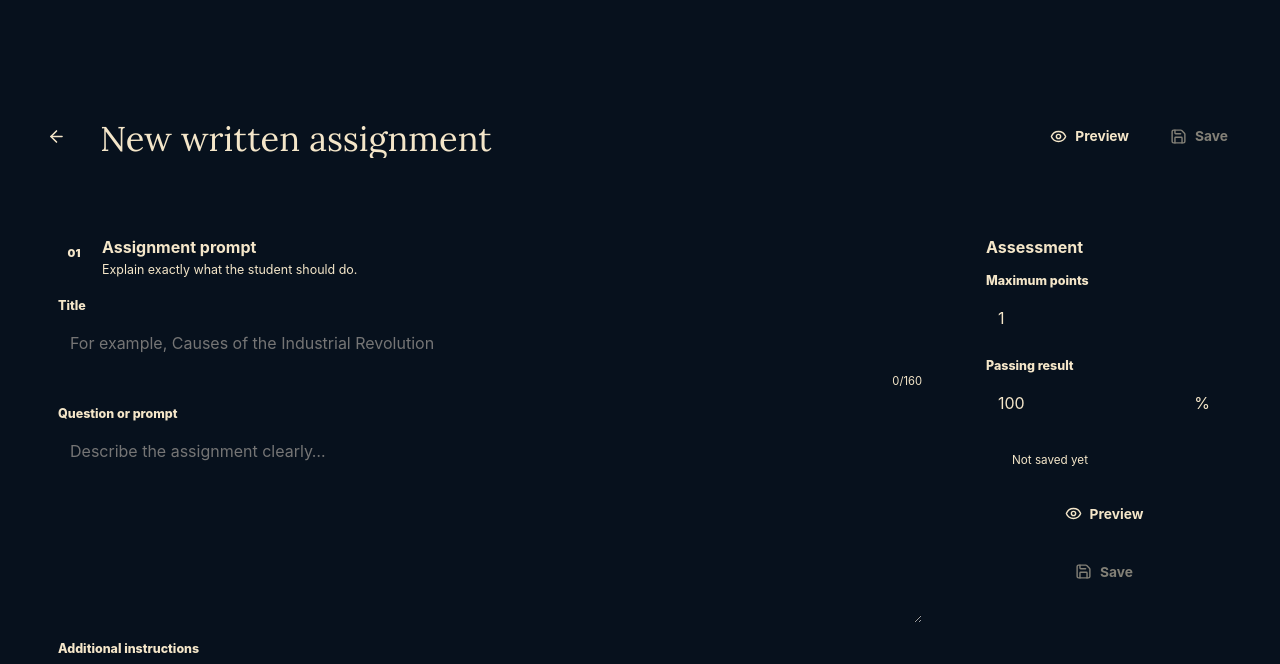
Test: teacher assignment workspace › creates the complete written draft only after explicit save
In the field labelled "Title": (490, 343) [58,320,922,367], type "Industrial Revolution"
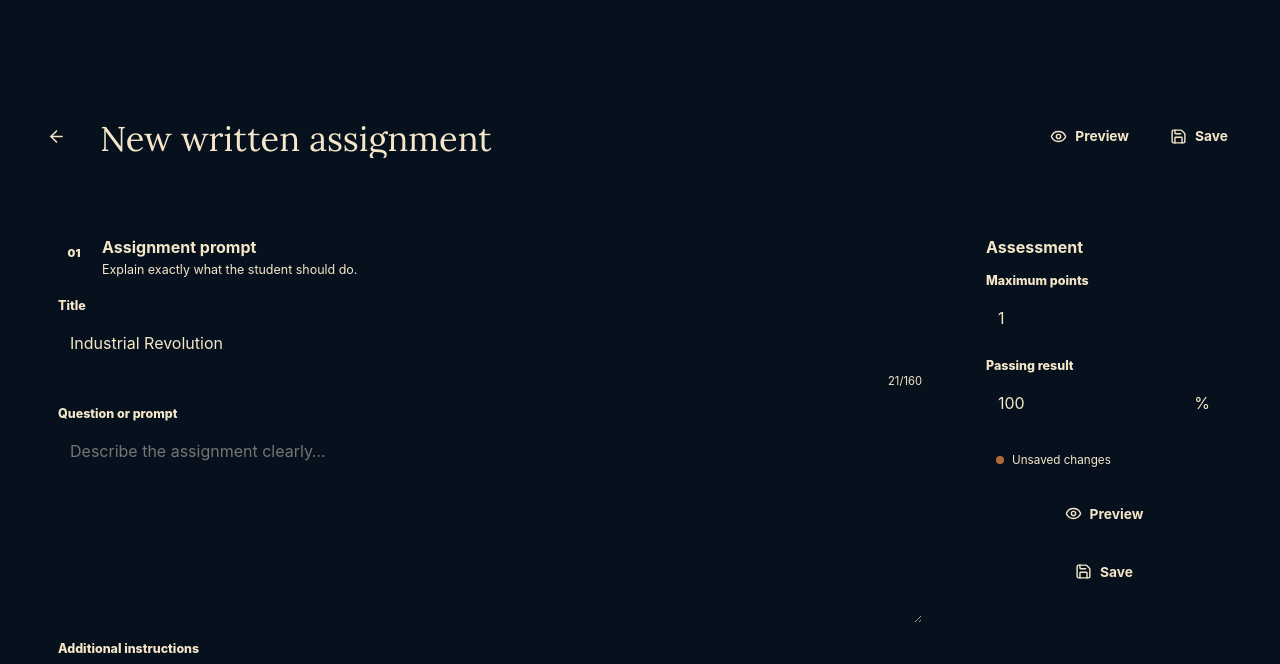
In the text box labelled "Question or prompt": (490, 525) [58,428,922,623], type "Explain two important causes."
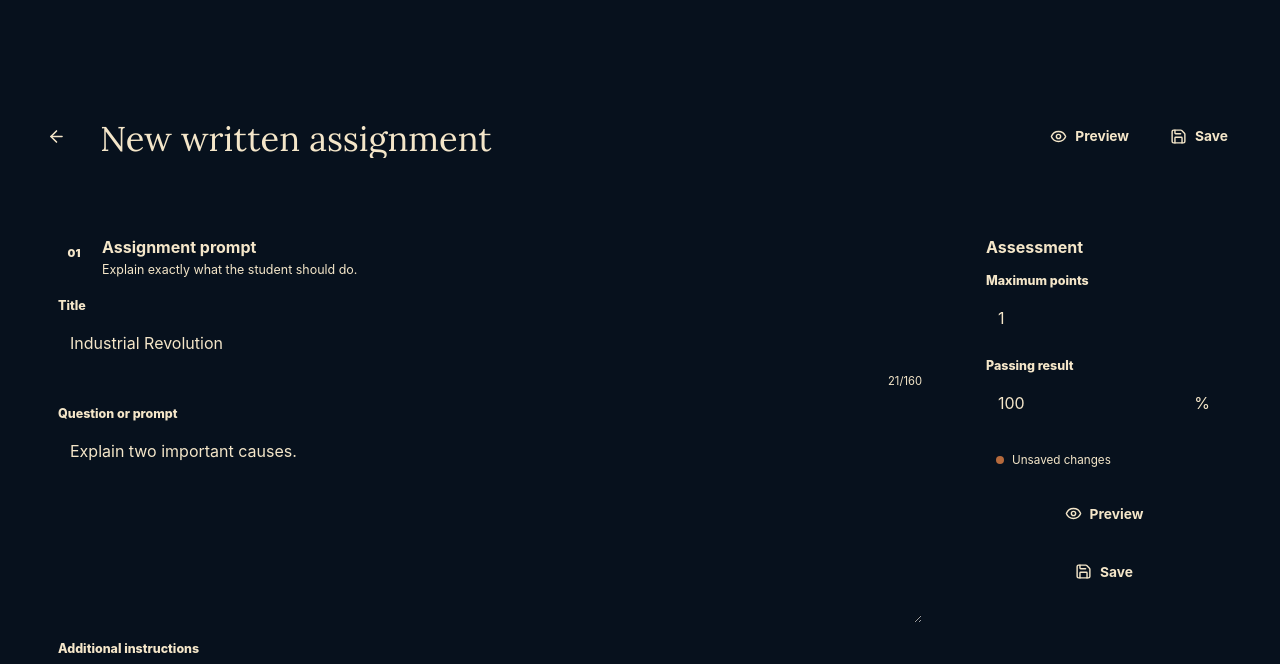
Click the button "Save" in the row of "New written assignment": (1199, 136) [1154,115,1244,157]
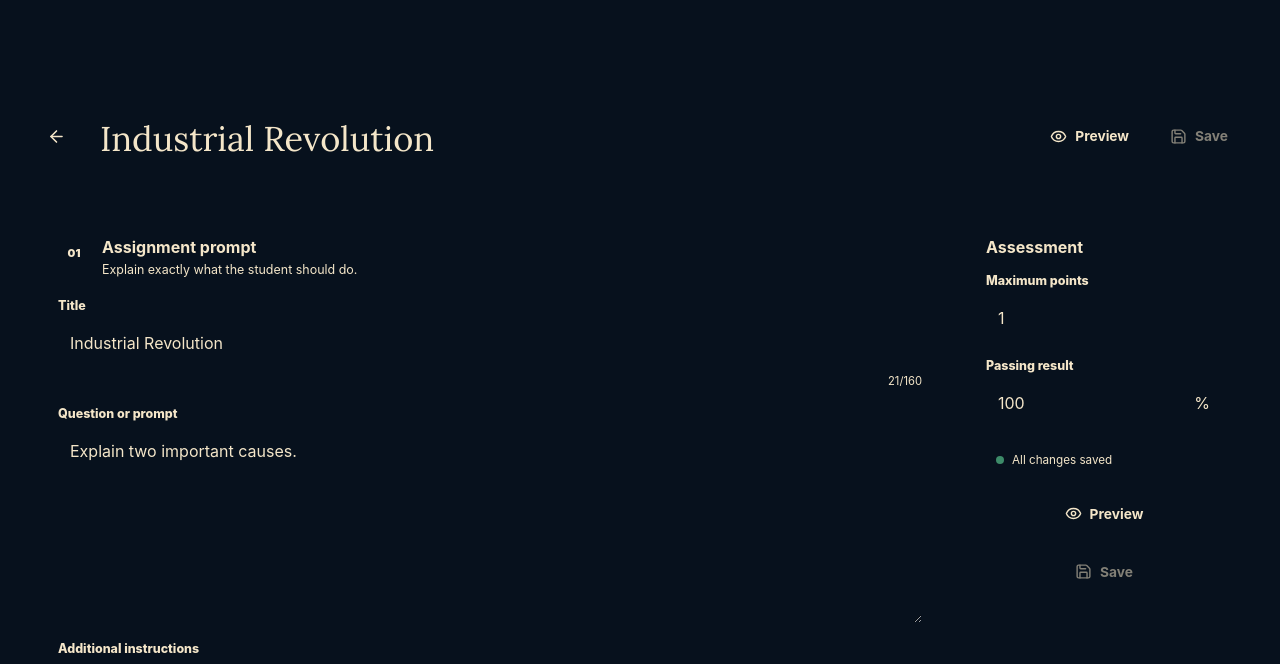
expect the text "All changes saved" is shown: met, box [1012,453,1112,467]
